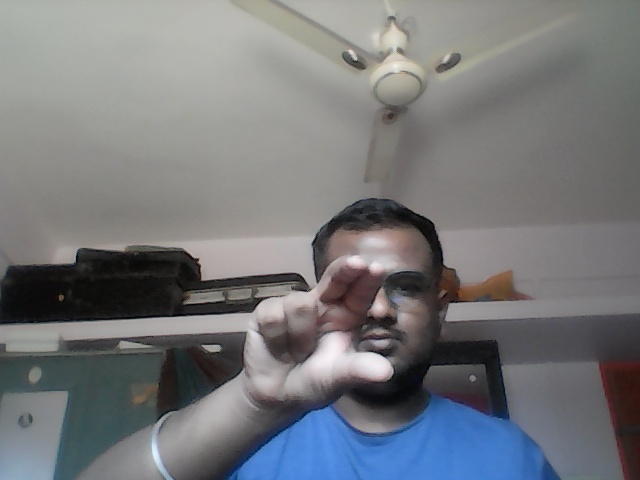No: (242, 251, 398, 410)
